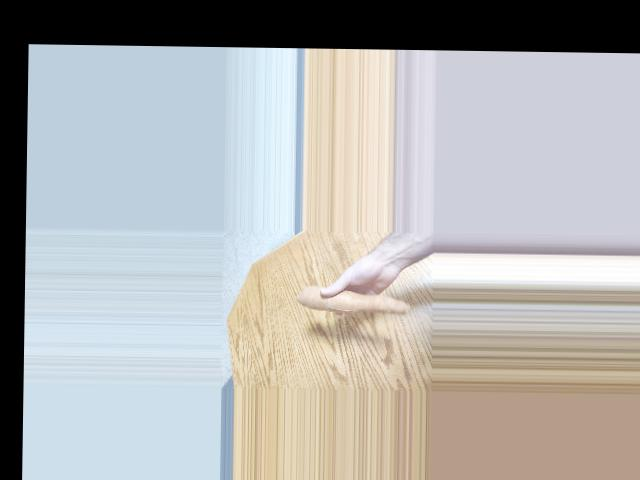sweet_potato: (299, 289, 414, 317)
